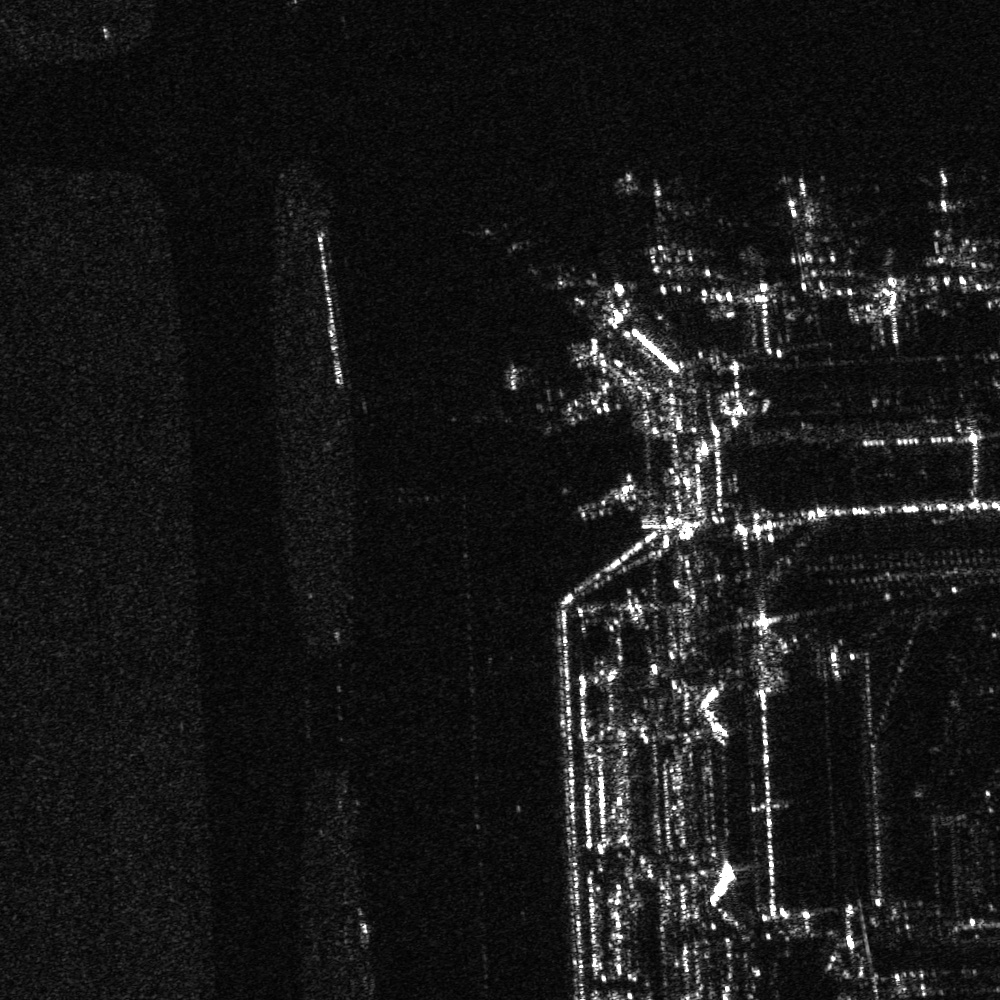A220: (772, 167, 838, 247)
Boeing787: (912, 164, 979, 237)
other: (624, 168, 690, 238)
